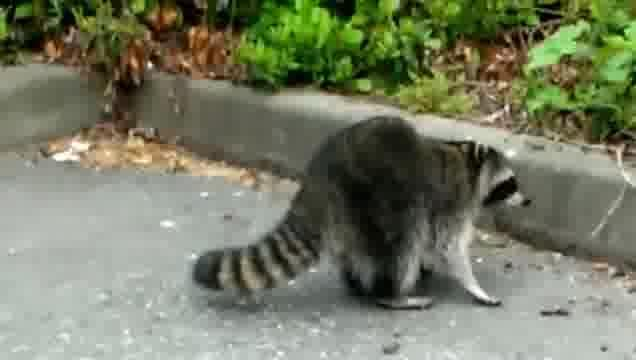raccoon: (193, 116, 534, 307)
